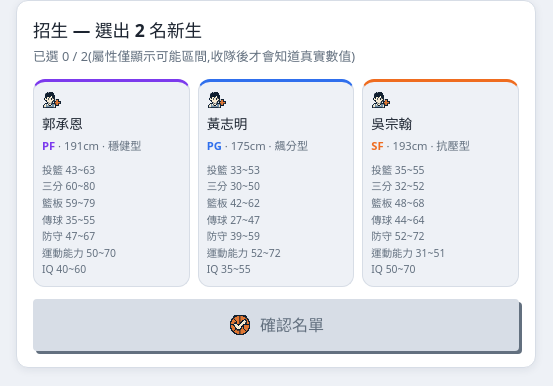
Test: RecruitingScreen › keeps the confirm button disabled until exactly `vacancies` candidates are selected
The image size is (553, 386).
Expected: the button "確認名單" is disabled, [33, 299, 519, 351]
Click the 1st button: click(111, 183) [33, 79, 190, 287]
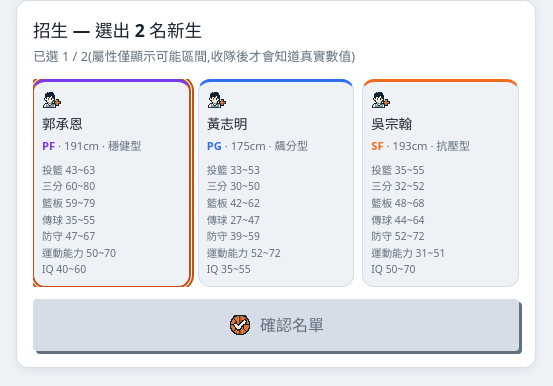
Expected: the button "確認名單" is disabled, [33, 299, 519, 351]
Click the 2nd button: click(276, 183) [198, 79, 354, 287]
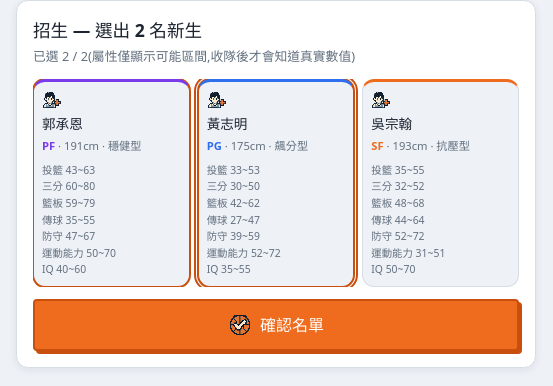
Now the button "確認名單" is enabled, box [33, 299, 519, 351]
